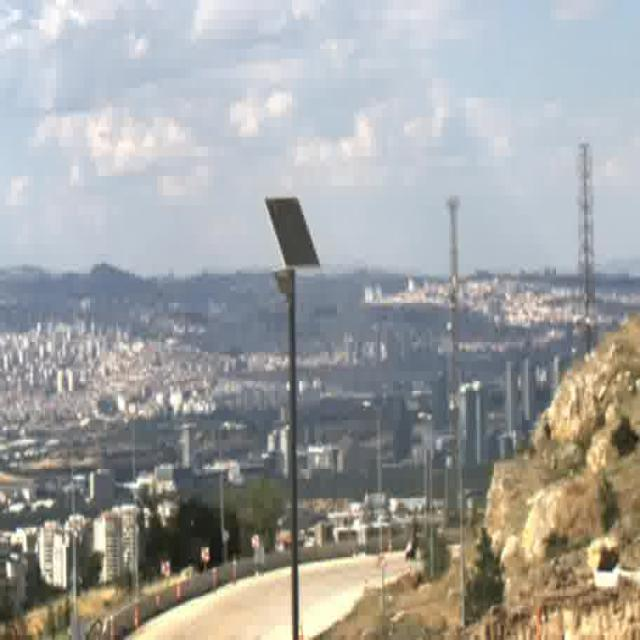Car: (406, 526, 426, 560)
